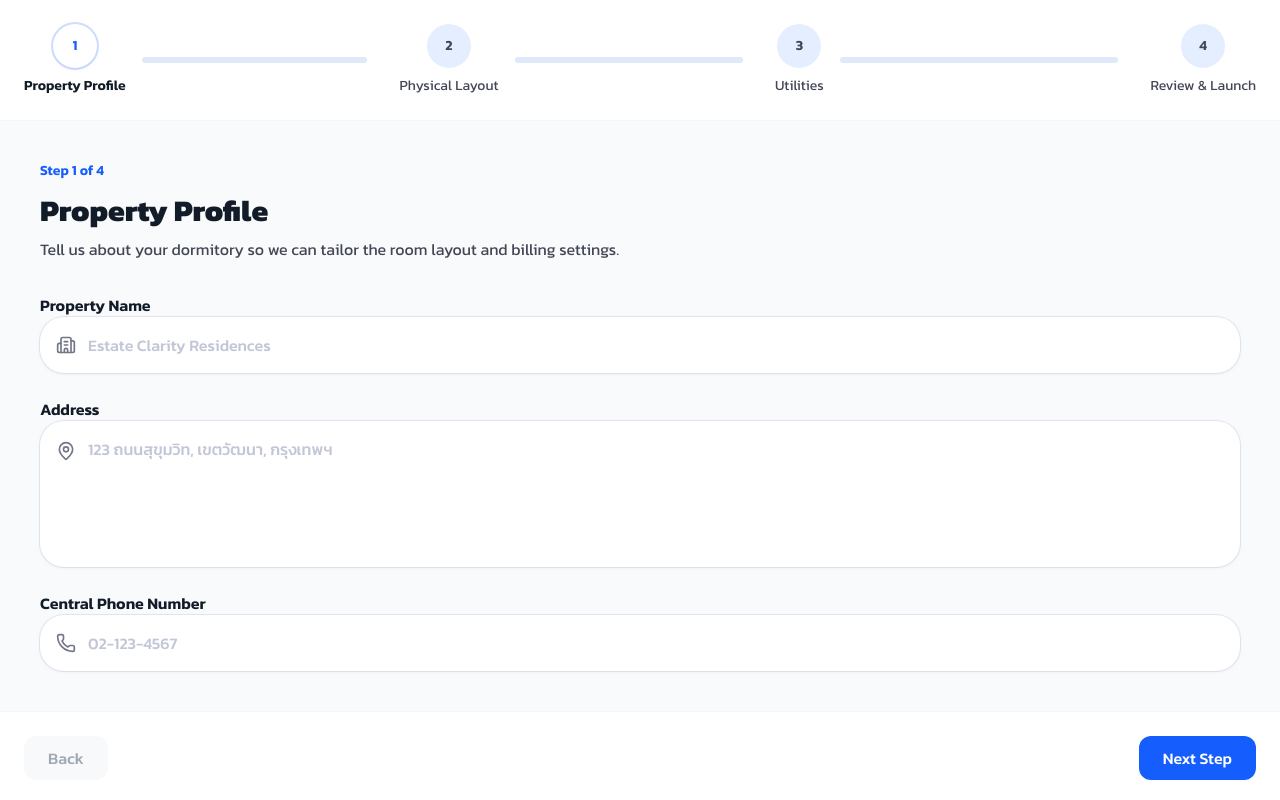
Test case: OnboardingWizard › Test B — Preview Grid updates reactively when floors/roomsPerFloor change › shows a single floor row (Floor 1) when floors=1 with correct range 101-110
Step 1. Type "My Dormitory" into the field labelled "Property Name" → (640, 345), box x1=40 y1=317 x2=1240 y2=373
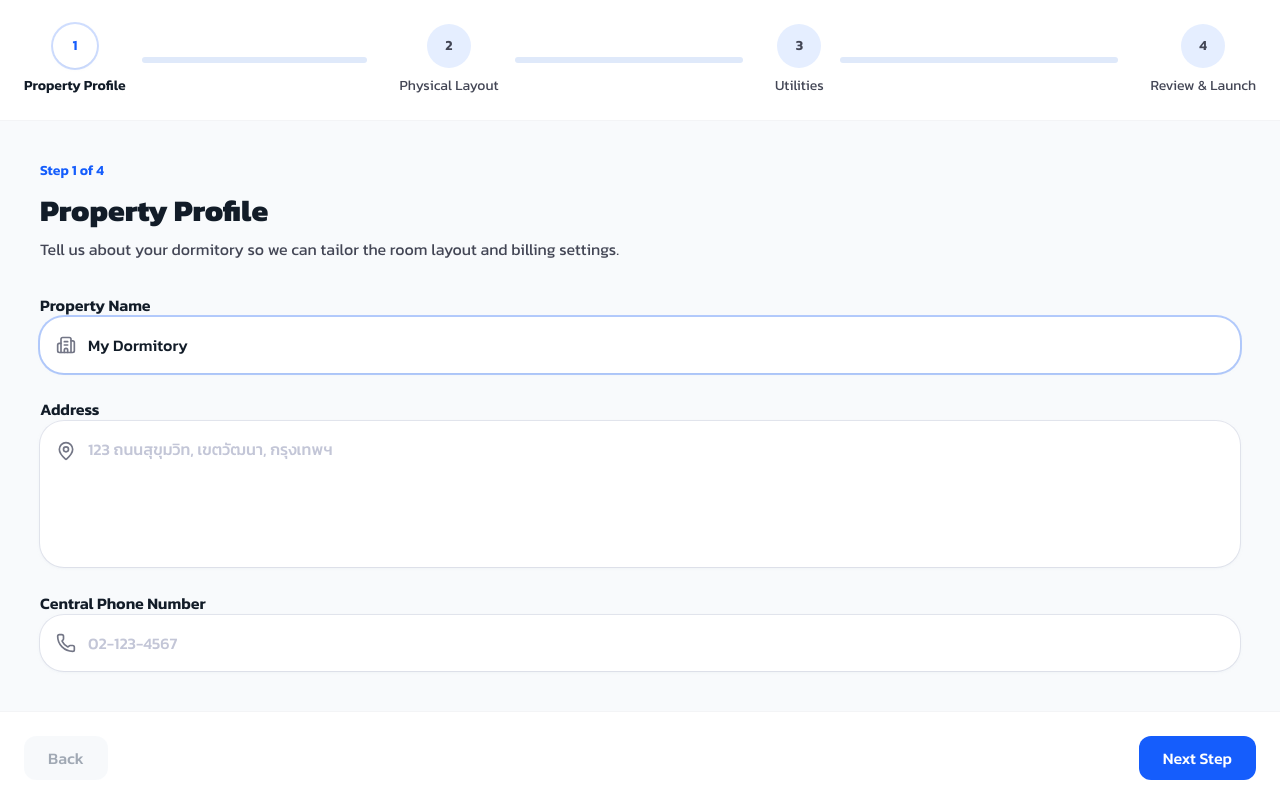
Step 2. Type "123 Test Street Bangkok" into the text box labelled "Address" → (640, 491), box x1=40 y1=421 x2=1240 y2=561
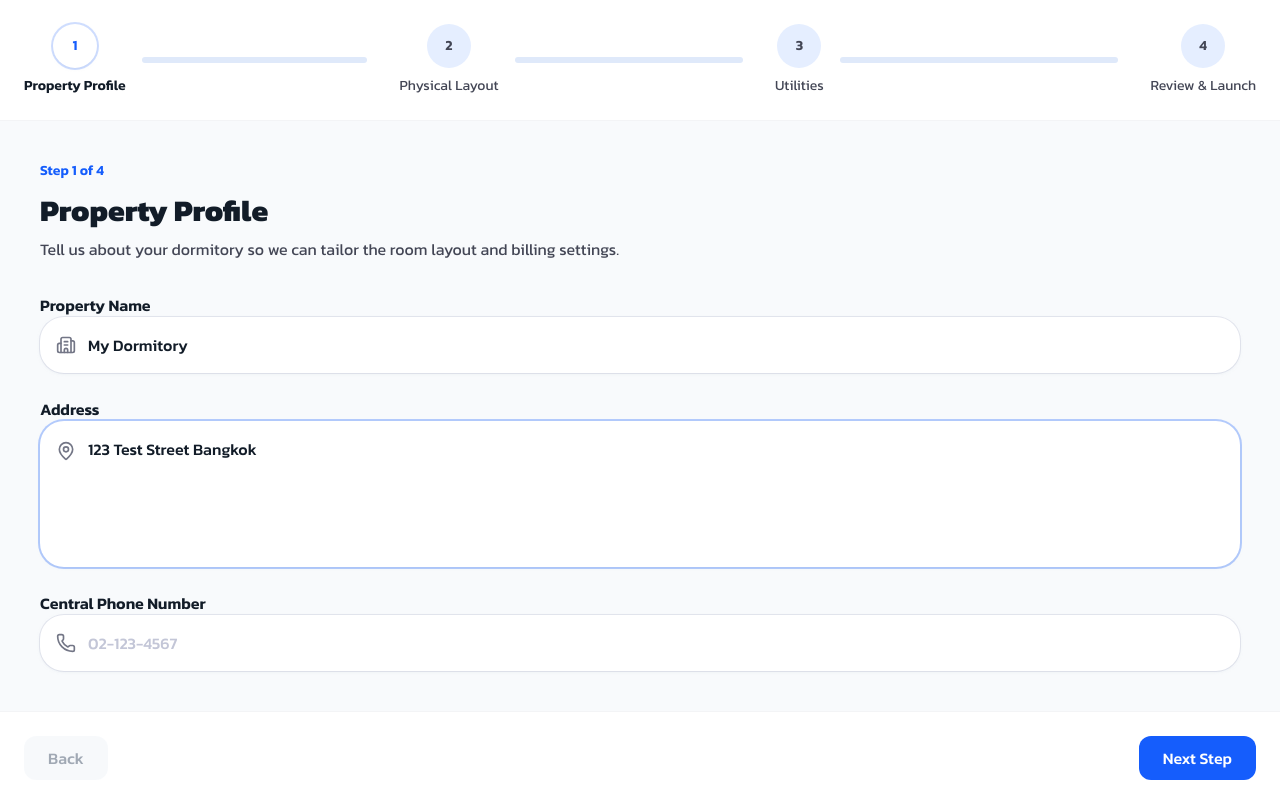
Step 3. Type "0812345678" into the field labelled "Central Phone Number" → (640, 643), box x1=40 y1=615 x2=1240 y2=671
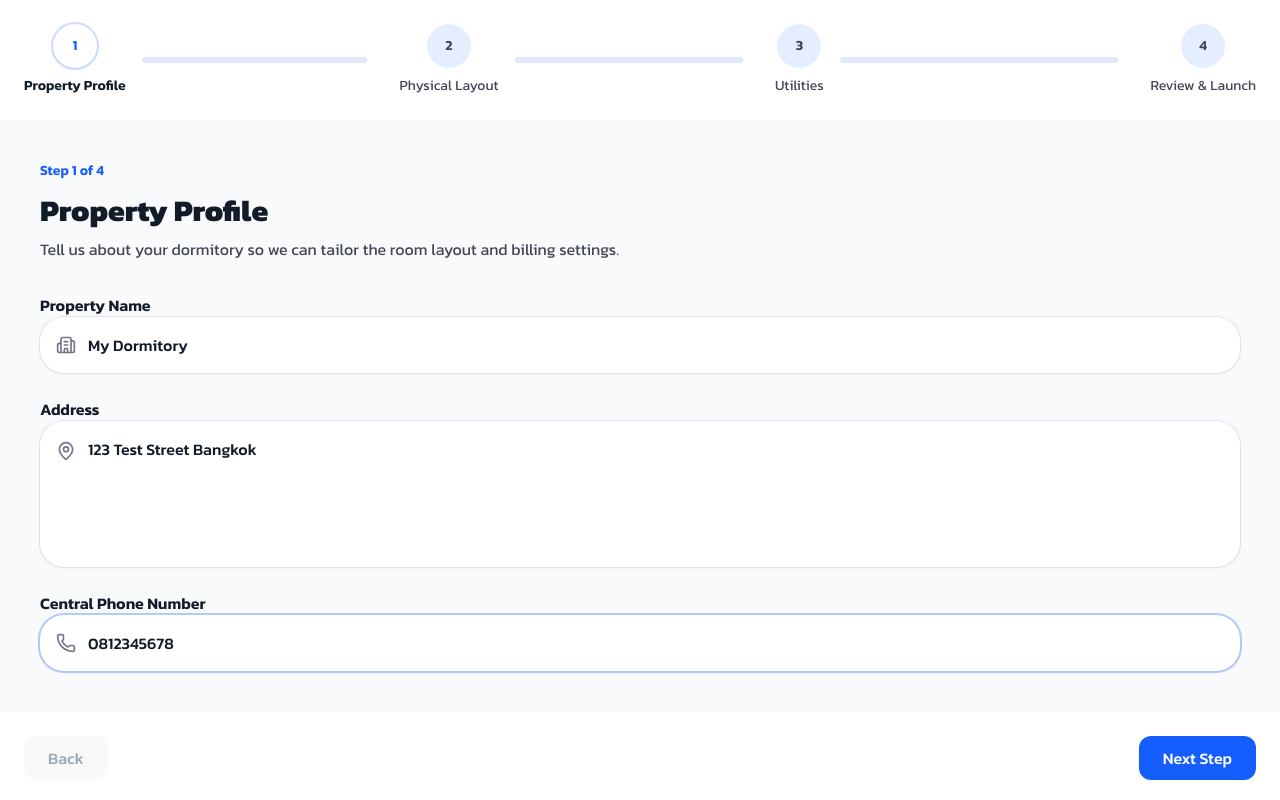
Step 4. Click the button "Next Step" → click(1197, 758), box x1=1139 y1=736 x2=1256 y2=780
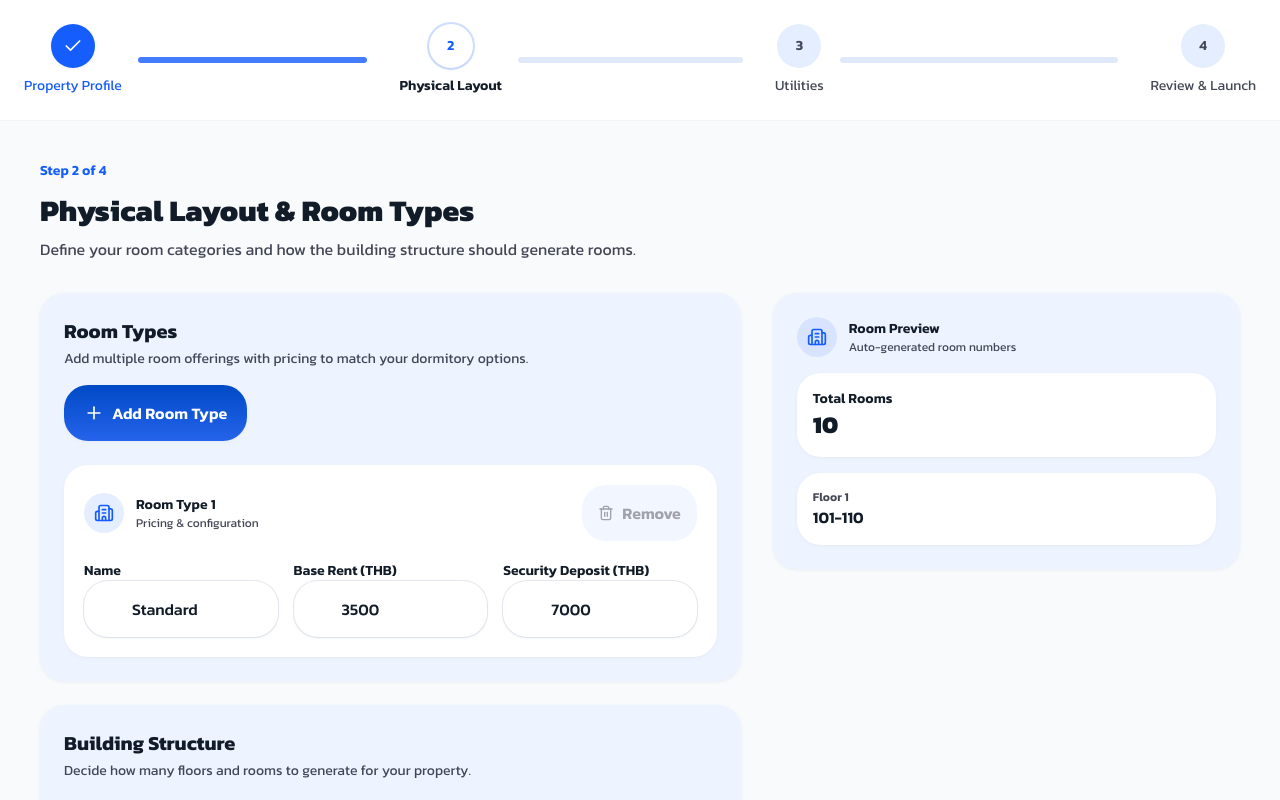
Now the text "Step 2 of 4" is shown, box x1=40 y1=160 x2=106 y2=181
Now the text "101-110" is shown, box x1=813 y1=505 x2=864 y2=529
Now the text "Floor 1" is shown once, box x1=813 y1=488 x2=849 y2=506
